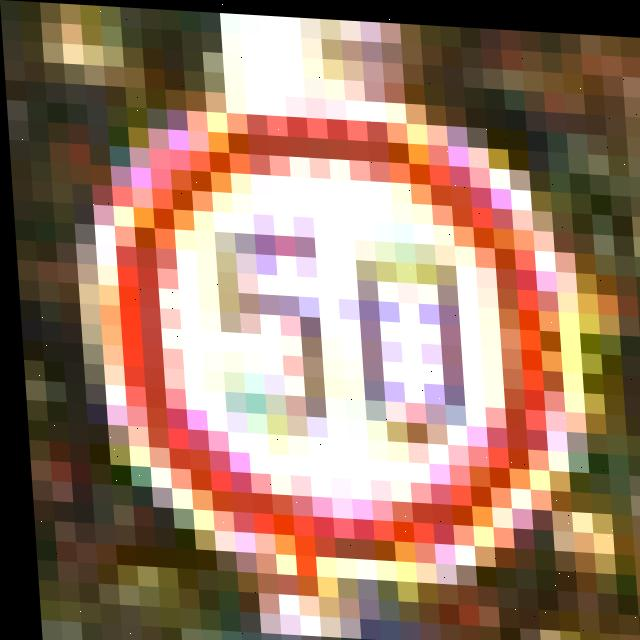speed_limit_50: (48, 60, 610, 604)
